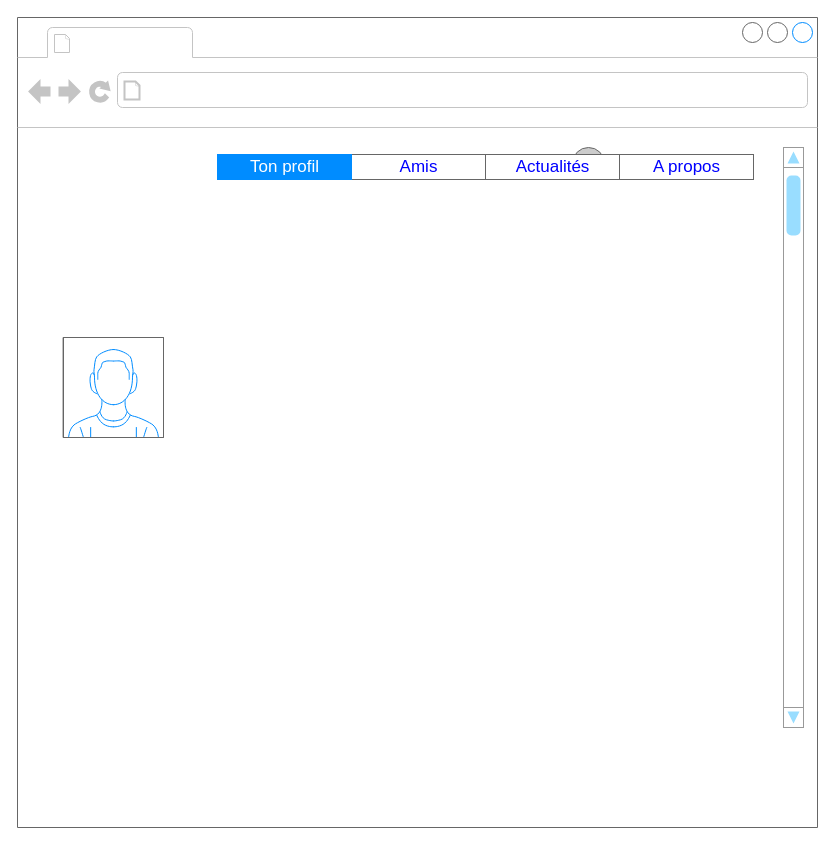
Image size: 835x845. Some labels were removed from this diagram. The shapes that lost their labels are listed below. From the top down, each one's centre as x and y in pixels, then its label:
At pixel 132 42: "Stravacat 🐱".
At pixel 272 90: "https://www.stravacat.io/profile".
